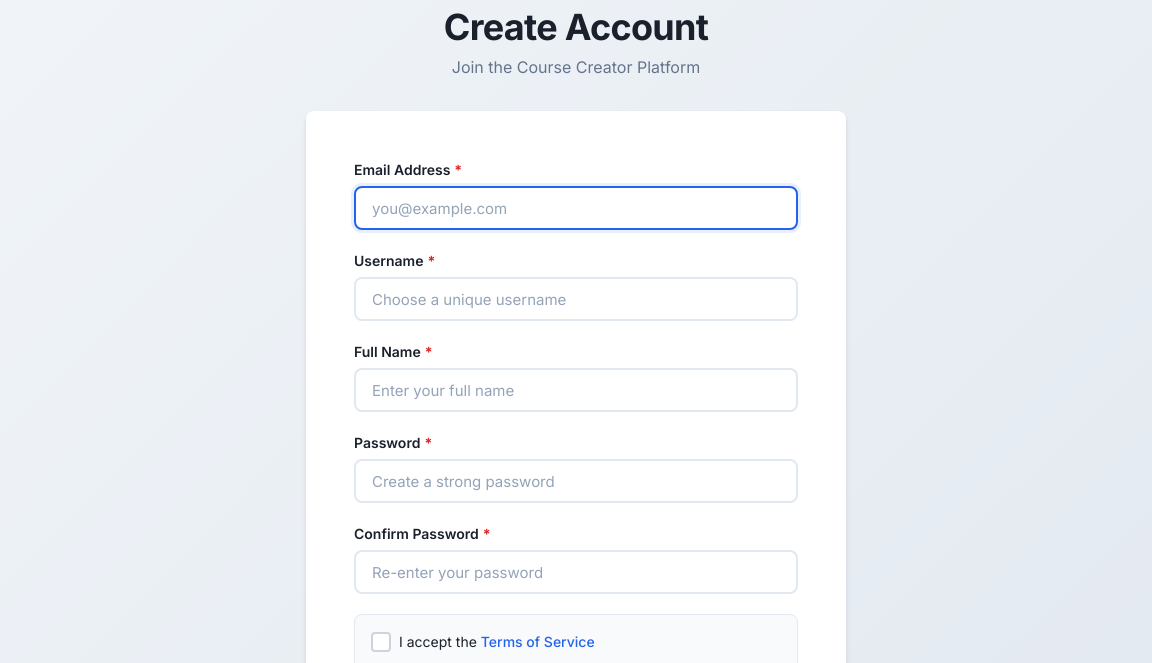
Test: RegistrationPage Component › Form Validation - Password › shows error when password is empty
Step 1. Type "test@example.com" into the field labelled "Email Address*" → [576, 208], box [354,186,798,230]
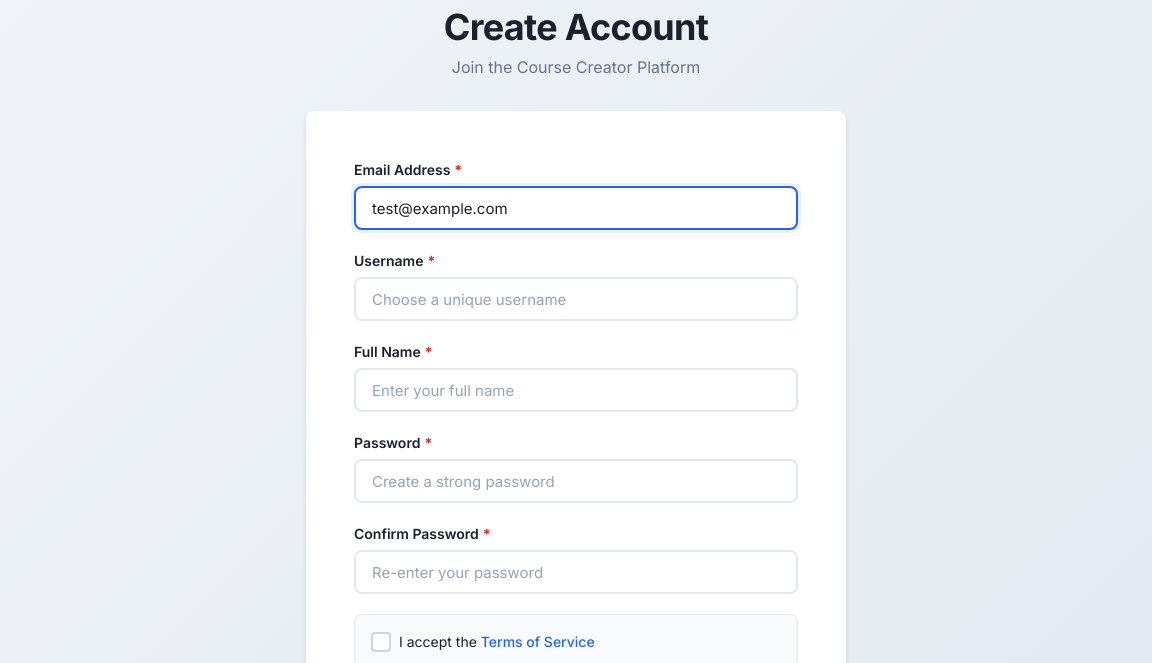
Step 2. Type "testuser" into the field labelled "Username*" → [576, 299], box [354,277,798,321]
(page scrolled)
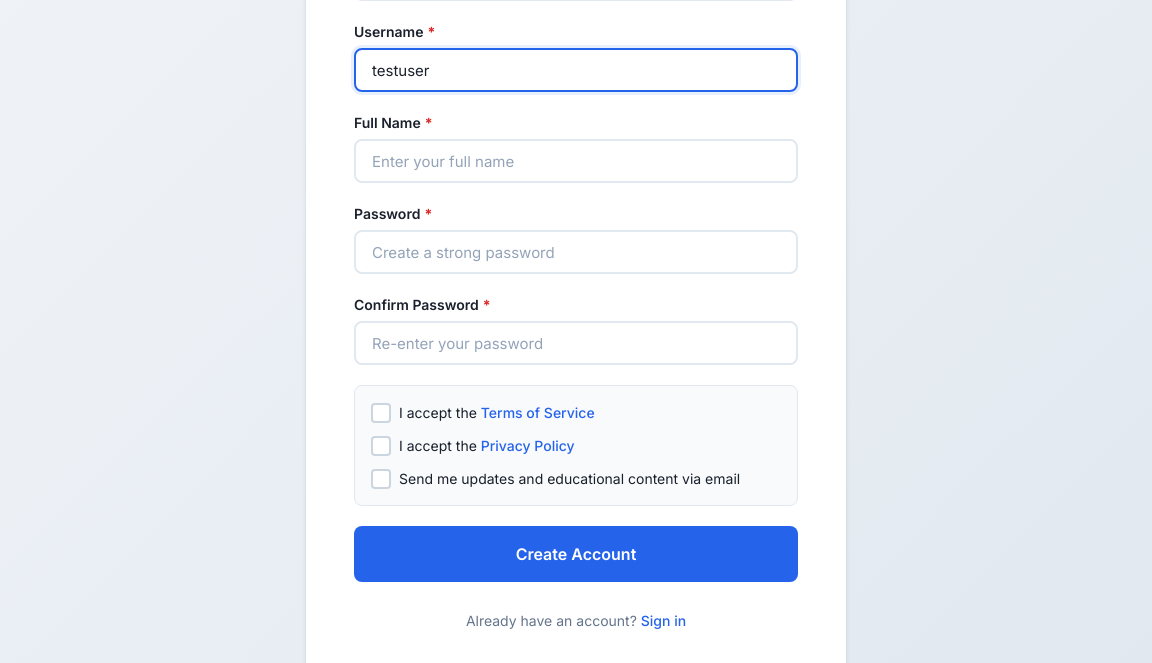
Step 3. Click the button "Create Account" → [576, 554], box [354,526,798,582]
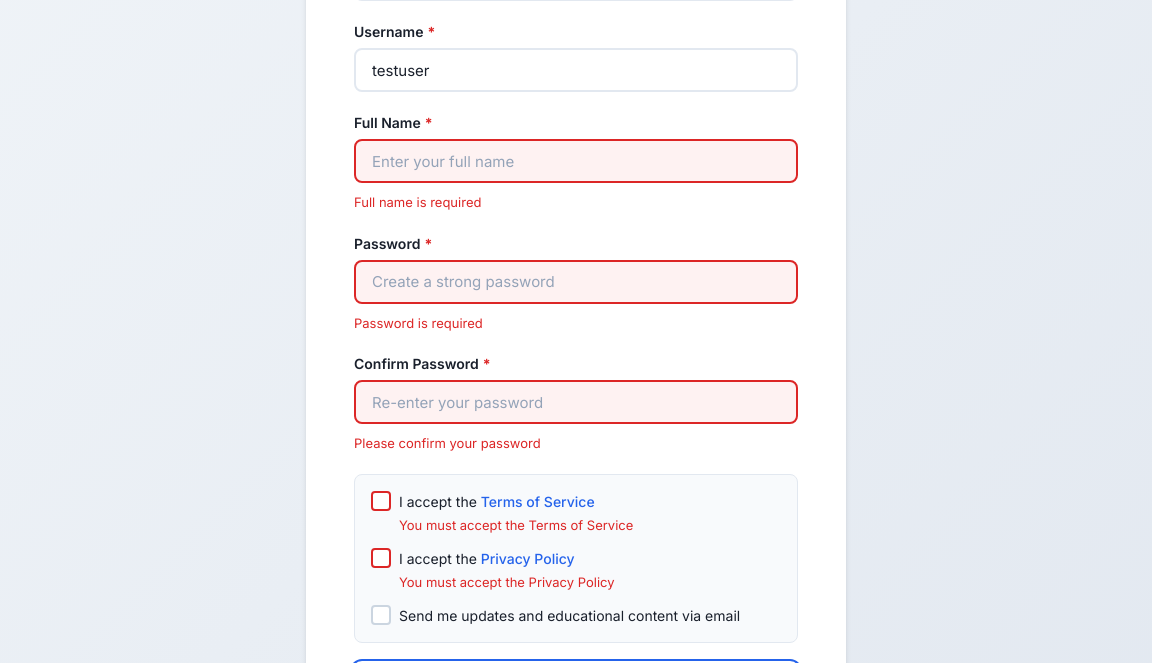
Expected: the text "Password is required" is shown, [354,314,483,330]
